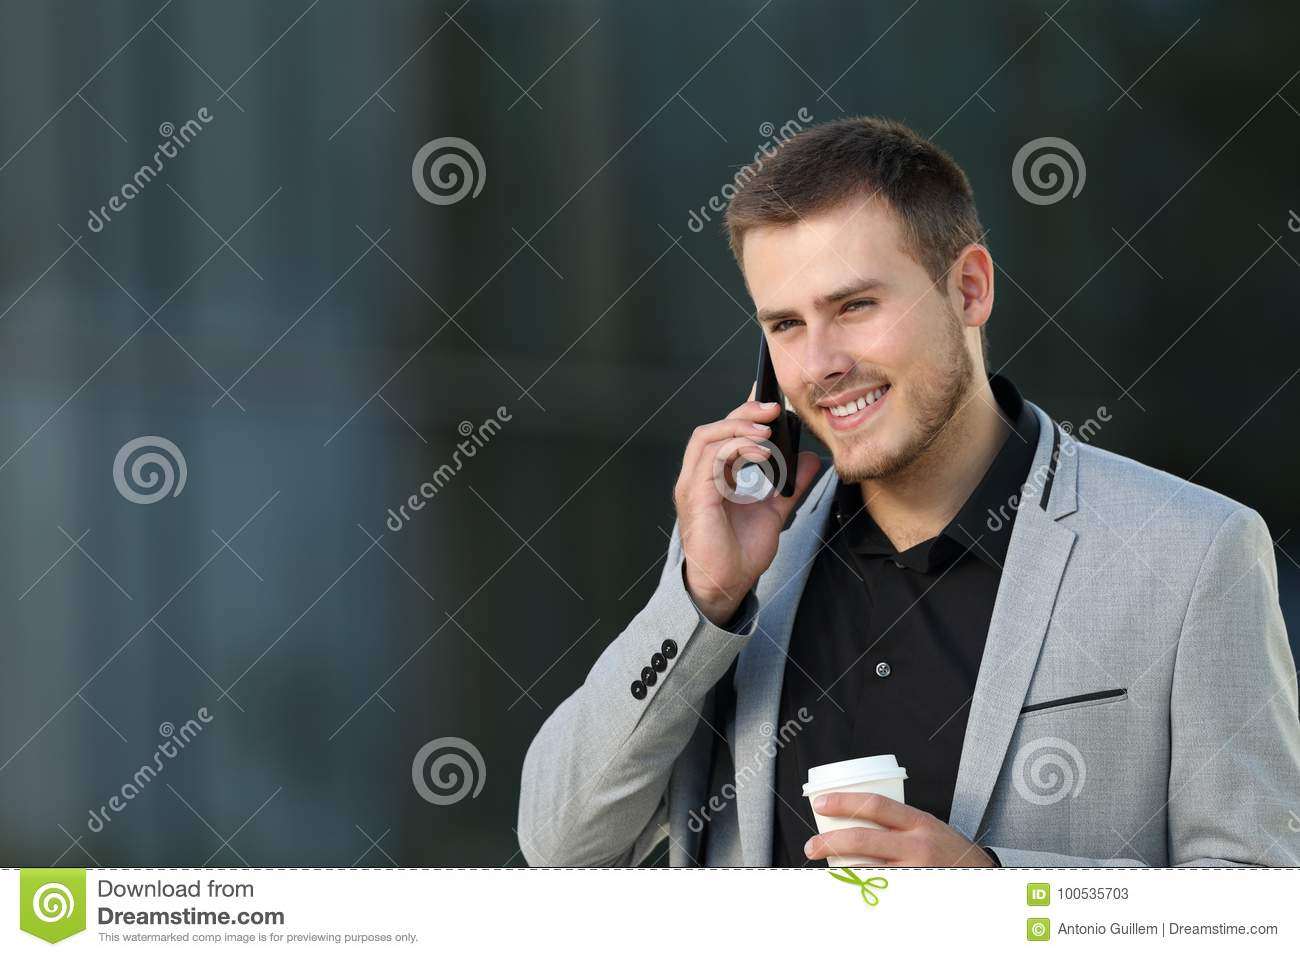phone: (745, 333, 800, 496)
talk: (676, 261, 927, 592)
